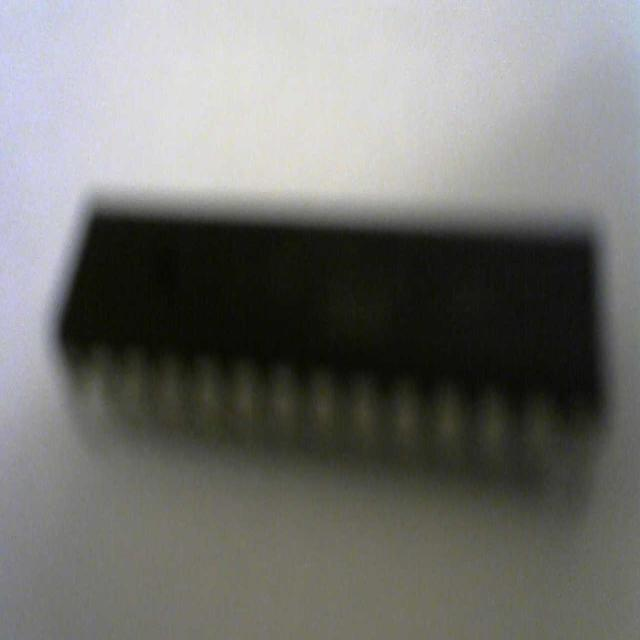atmega: (54, 181, 608, 495)
